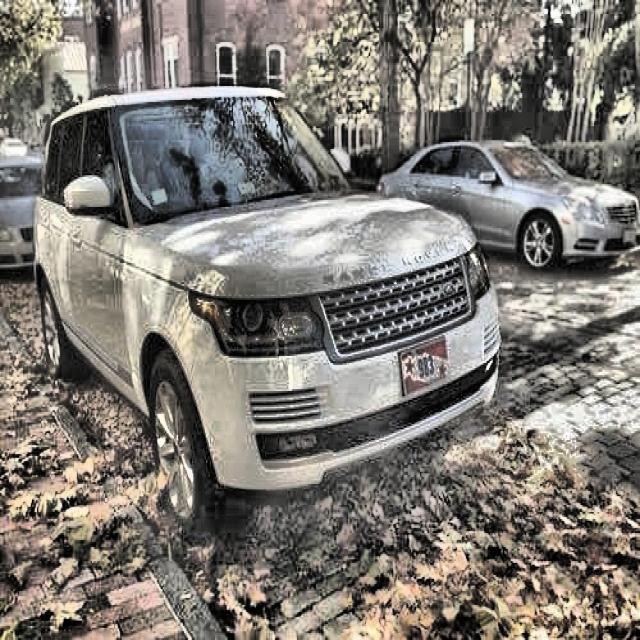license_plate: (399, 341, 448, 396)
